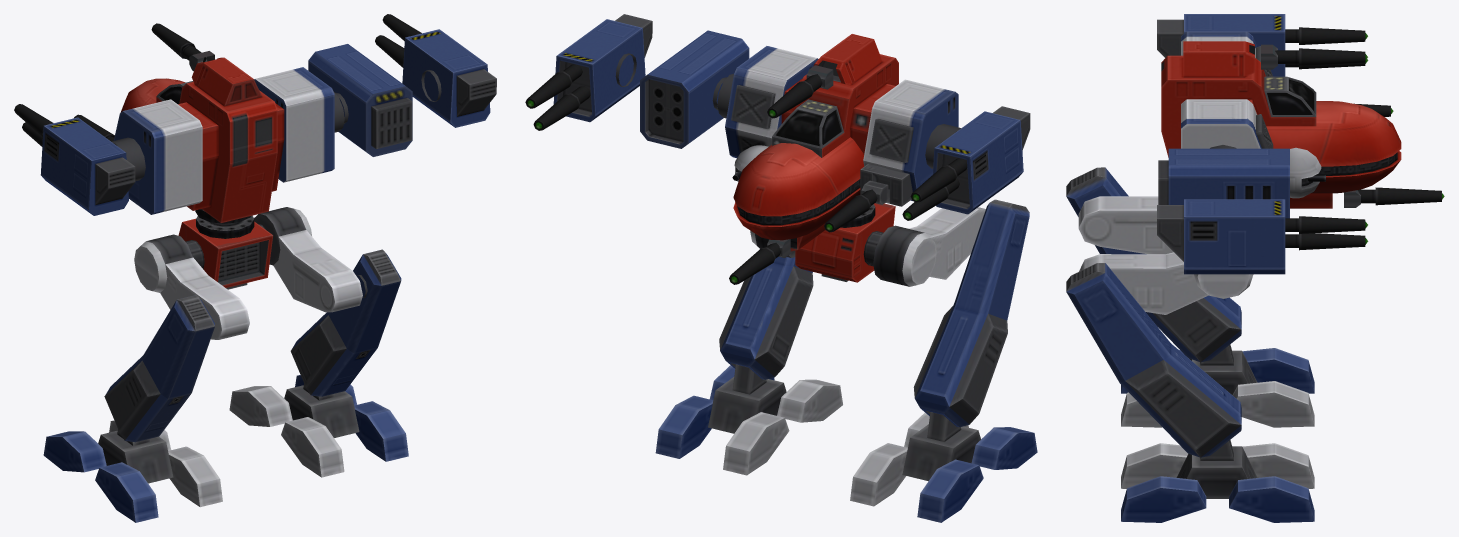
File: Osiris_exp.FBX
3 views of the same model, side by side, from view 1: azimuth 30°, elevation 25°; view 2: azimuth 150°, elevation 25°; view 3: azimuth 270°, elevation 25° (orthographic). The views are drawn at different scales.
Parts seen in each view (by area): view 1: torso, lupperarm (×2), rlowerleg, llowerleg, rupperarm, lupperleg, rupperleg, pelvis, lbacktoes, rbacktoes, lfoot, rfoot (+3 smaller); view 2: torso, lupperarm (×2), rlowerleg, rupperarm, llowerleg, rupperleg, rfronttoes, lfronttoes, pelvis, lfoot, rfoot, lbacktoes (+4 smaller); view 3: torso, lupperarm (×2), llowerleg, rlowerleg, lupperleg, lfronttoes, lbacktoes, rfronttoes, rupperarm, rupperleg, lfoot, mantlet_5 (+3 smaller).
Part boxes in pixels (<box>): torso: <box>111,57,344,223</box>; lupperarm (×2): <box>308,14,496,156</box>; rlowerleg: <box>104,295,214,442</box>; llowerleg: <box>290,249,401,396</box>; rupperarm: <box>14,104,135,215</box>; lupperleg: <box>254,207,362,312</box>; rupperleg: <box>134,234,249,339</box>; pelvis: <box>178,215,273,289</box>; lbacktoes: <box>281,401,408,477</box>; rbacktoes: <box>95,446,222,522</box>; lfoot: <box>284,383,359,437</box>; rfoot: <box>98,429,173,483</box>; torso: <box>717,34,960,251</box>; lupperarm (×2): <box>525,14,749,148</box>; rlowerleg: <box>913,199,1029,427</box>; rupperarm: <box>902,106,1030,220</box>; llowerleg: <box>719,256,813,379</box>; rupperleg: <box>873,207,985,286</box>; rfronttoes: <box>850,443,983,522</box>; lfronttoes: <box>655,395,789,475</box>; pelvis: <box>795,203,895,282</box>; lfoot: <box>708,364,786,433</box>; rfoot: <box>902,412,980,481</box>; lbacktoes: <box>709,365,842,422</box>; torso: <box>1161,31,1401,208</box>; lupperarm (×2): <box>1157,148,1368,274</box>; llowerleg: <box>1066,263,1241,457</box>; rlowerleg: <box>1066,167,1241,362</box>; lupperleg: <box>1079,252,1253,314</box>; lfronttoes: <box>1229,443,1314,522</box>; lbacktoes: <box>1121,443,1206,522</box>; rfronttoes: <box>1232,348,1314,427</box>; rupperarm: <box>1157,14,1368,76</box>; rupperleg: <box>1078,196,1173,254</box>; lfoot: <box>1176,440,1257,498</box>; mantlet_5: <box>1261,44,1367,69</box>.
Size of the model in its own units: 42.38 by 39.06 by 32.94.
1 material, 1 textured.
